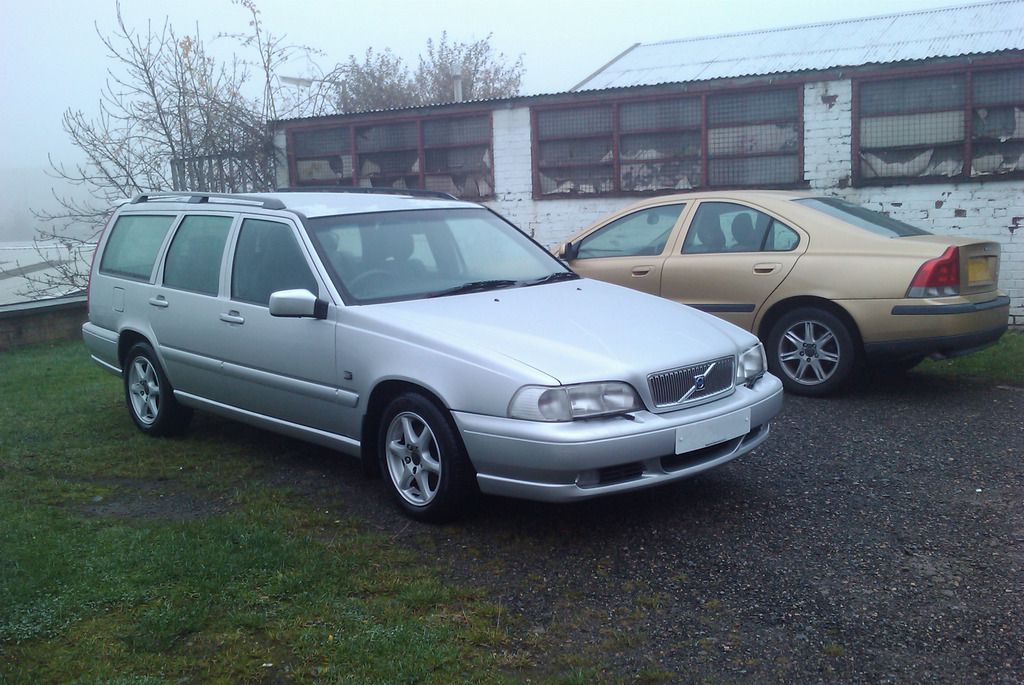Tree: (0, 0, 532, 298)
